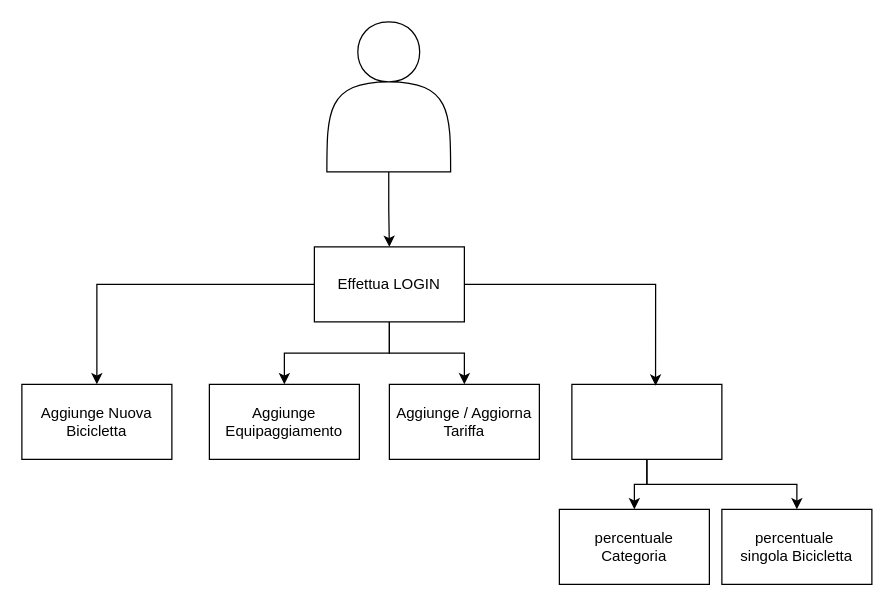
Some shapes in this 894 by 606 pixel diagram are drawn without their labels. Here are the shapes that lost their labels. From the top down, the centre of each, then its label:
the point at 388,96: ADMIN
the point at 646,421: VIsualizza percentuale utilizzo
